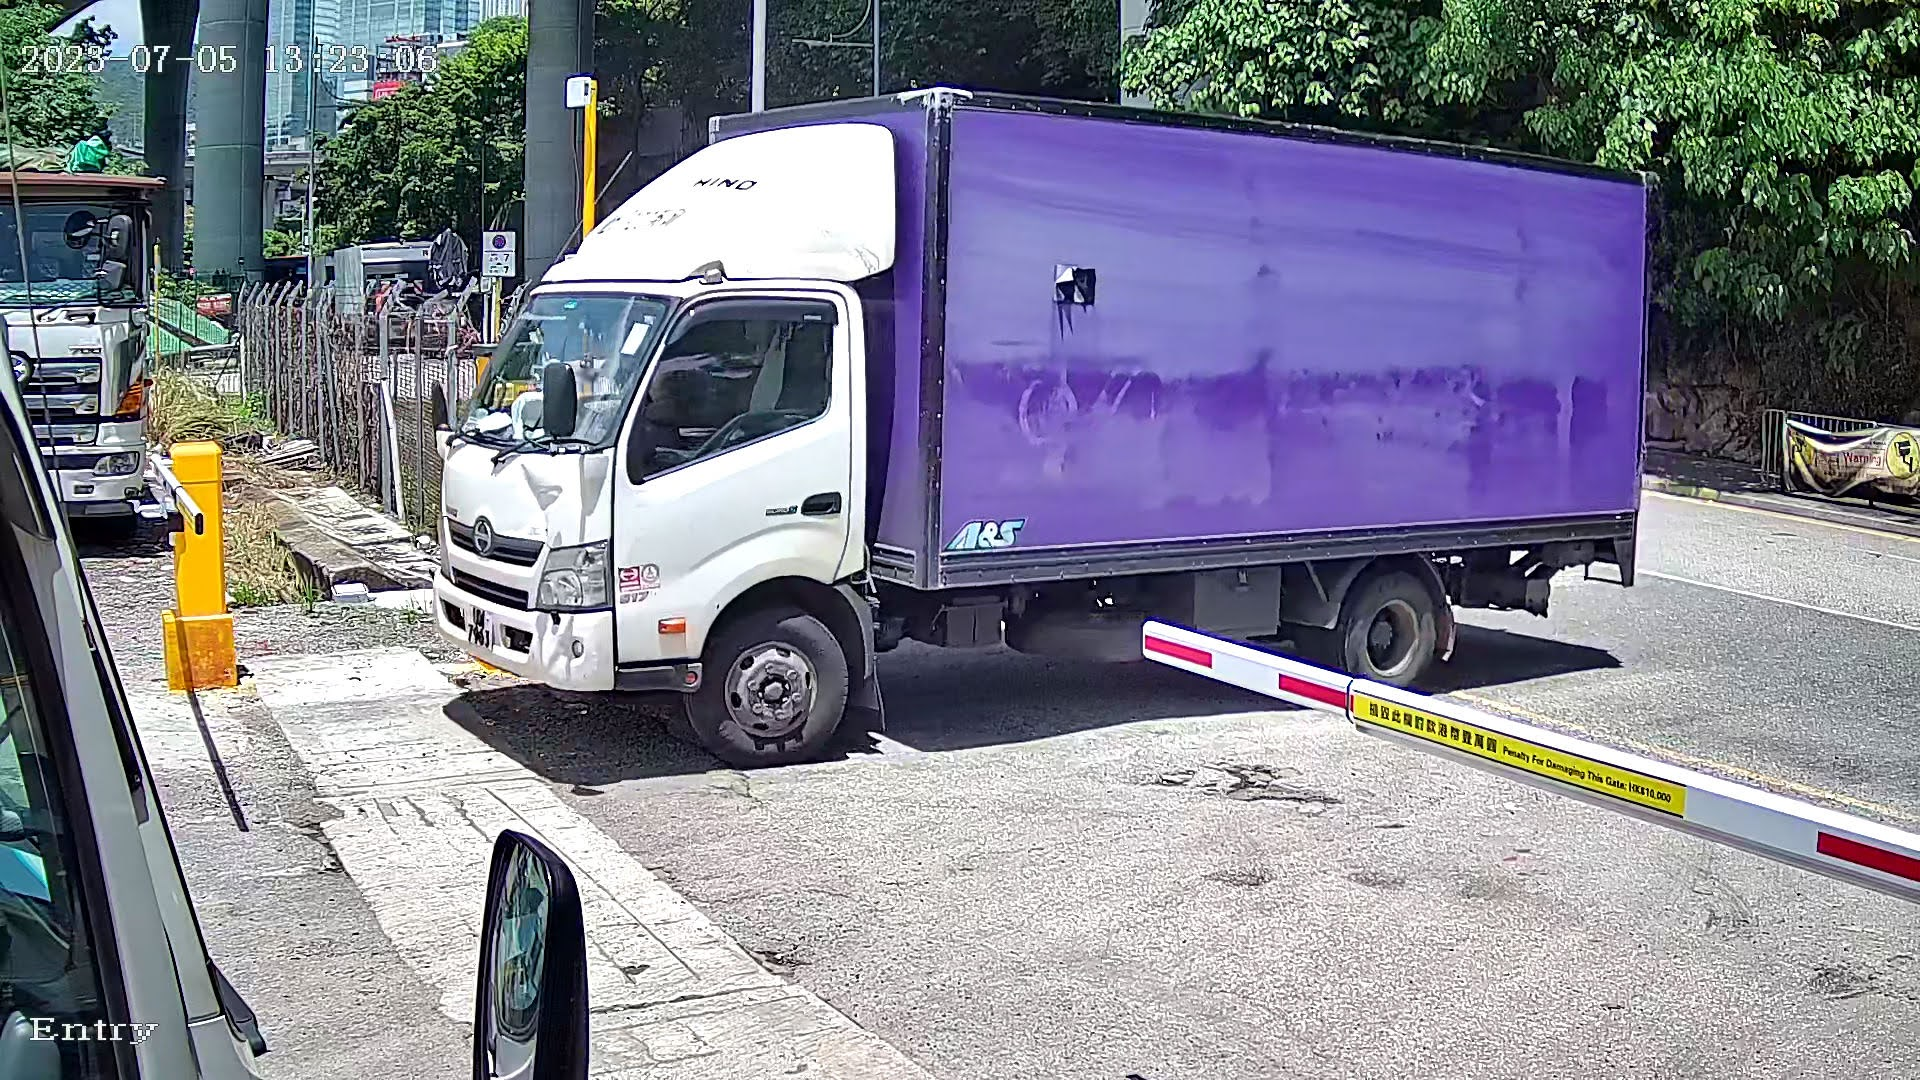truck_small: (382, 53, 1698, 783)
